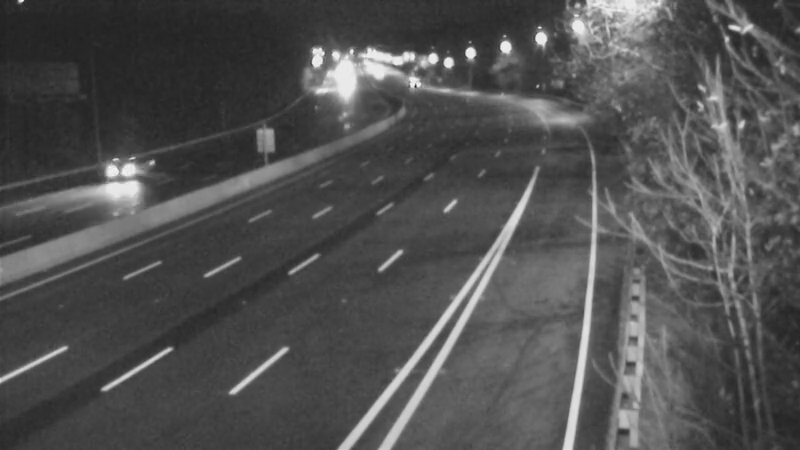vehicle: (80, 131, 160, 211), (381, 56, 431, 106)
